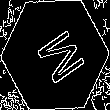M_SW: (25, 22, 85, 88)
